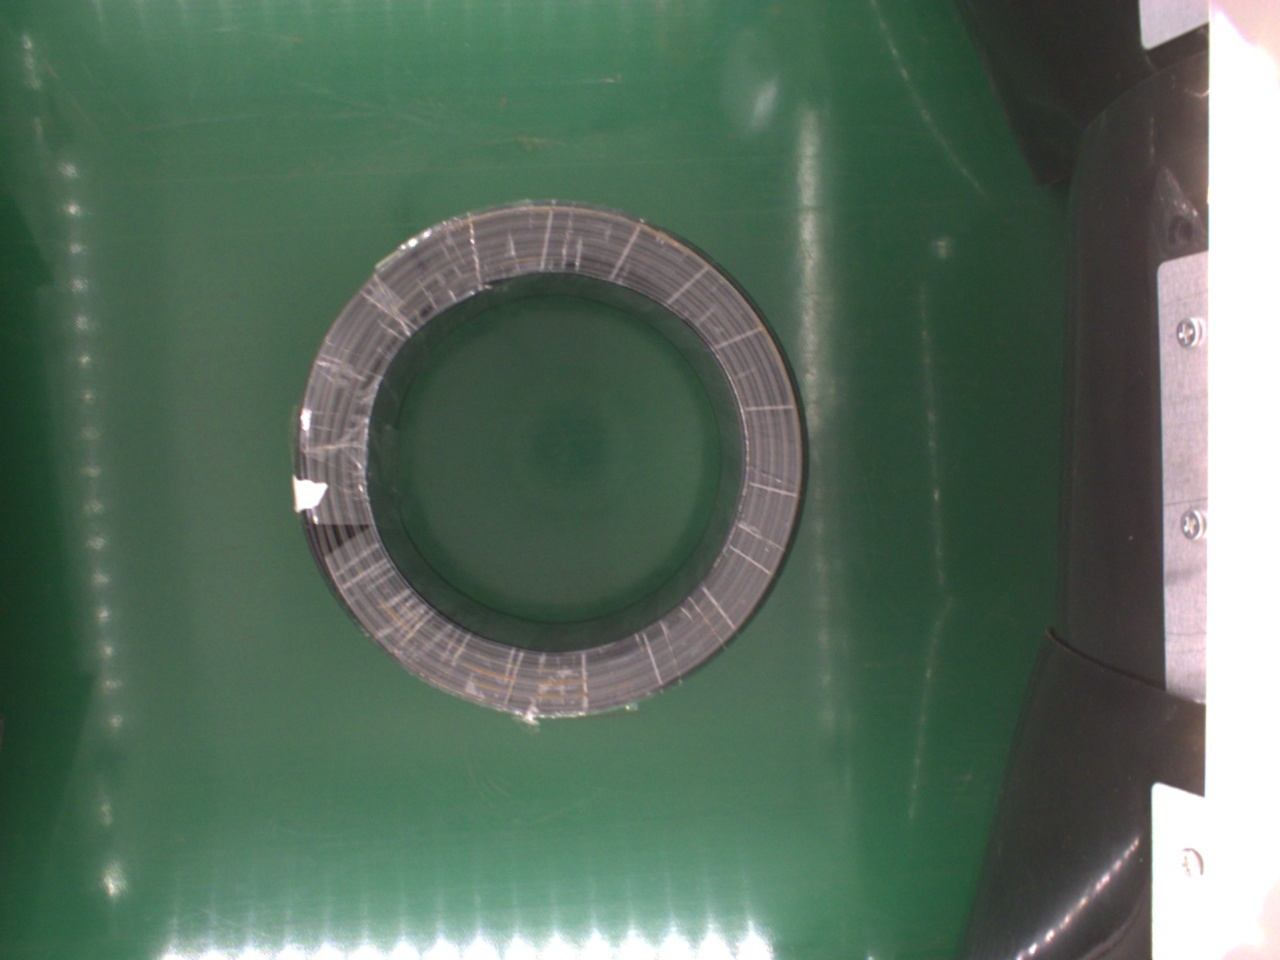black: (297, 200, 804, 721)
